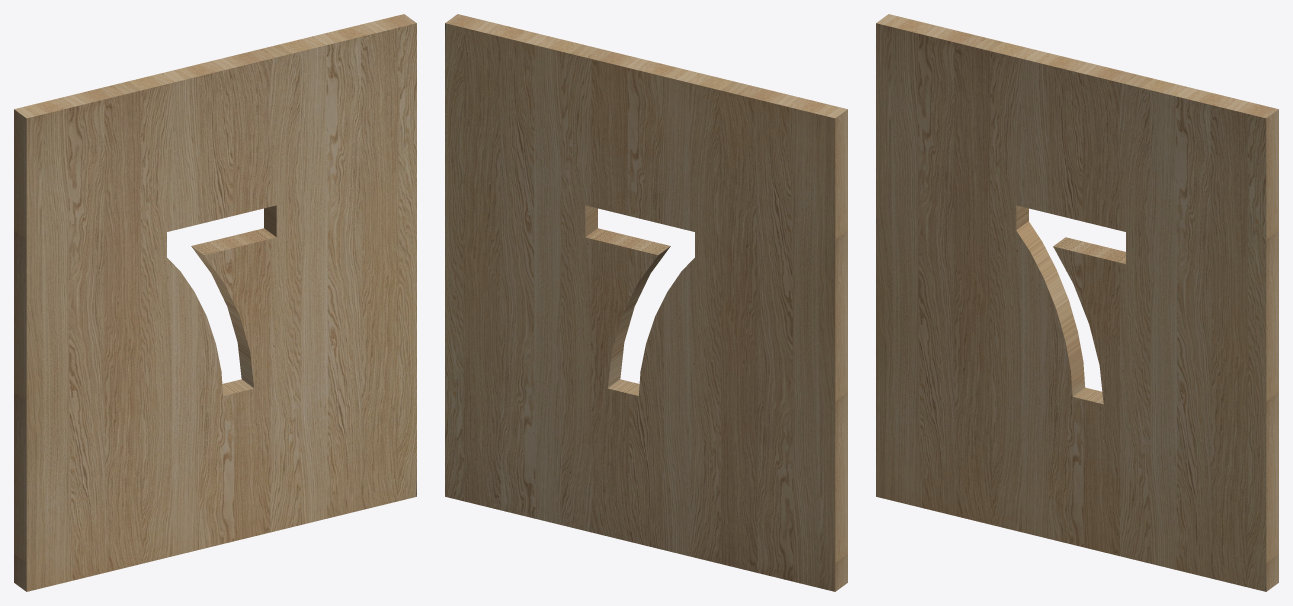
The picture shows the model from 3 angles, left to right: view 1: azimuth 30°, elevation 25°; view 2: azimuth 150°, elevation 25°; view 3: azimuth 330°, elevation 25°; orthographic projection.
Visible parts, largest first — view 1: so7; view 2: so7; view 3: so7.
Boxes of the visible parts, box(x1,y1,x2,y2) form: so7: box(14, 14, 416, 591); so7: box(445, 14, 847, 591); so7: box(876, 14, 1278, 591).
Bounding box in the file's own units: 2.89 × 3.36 × 0.1618.
1 material, 1 textured.
